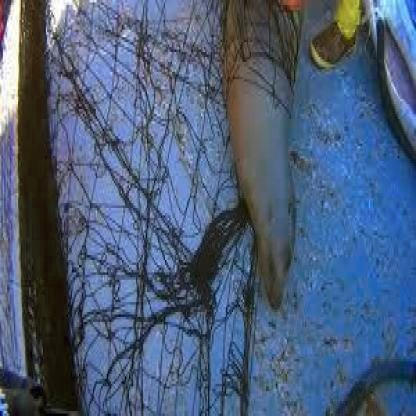net: (55, 7, 247, 416)
